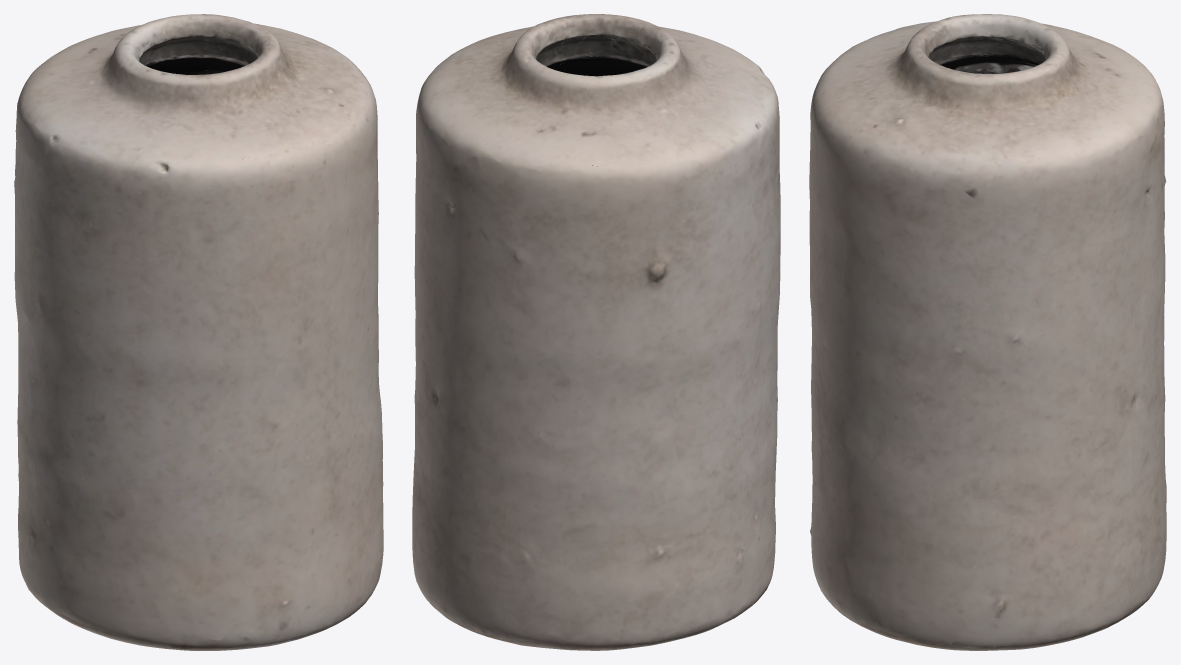
Rendered from sample.glb.
3 renders of one model, left to right at view 1: azimuth 30°, elevation 25°; view 2: azimuth 150°, elevation 25°; view 3: azimuth 270°, elevation 25°, orthographic.
Visible parts, largest first — view 1: geometry_0; view 2: geometry_0; view 3: geometry_0.
Boxes of the visible parts, x1=… form: geometry_0: x1=14, y1=14, x2=383, y2=650; geometry_0: x1=412, y1=14, x2=780, y2=650; geometry_0: x1=809, y1=14, x2=1166, y2=650.
Size of the model in its own units: 0.1235 by 0.2 by 0.1197.
1 material, 1 textured.
